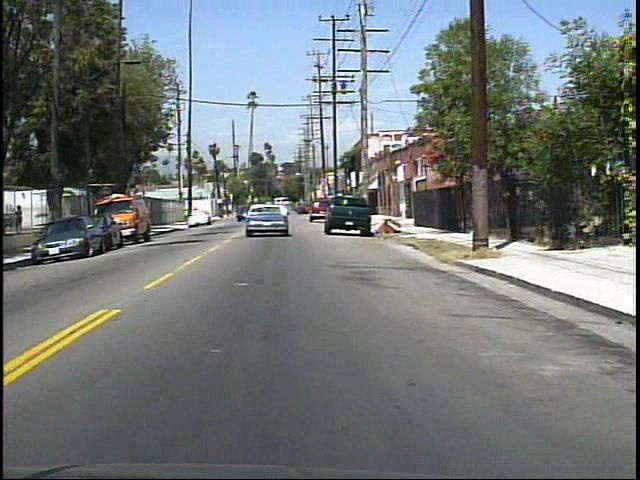person: (17, 203, 27, 235)
